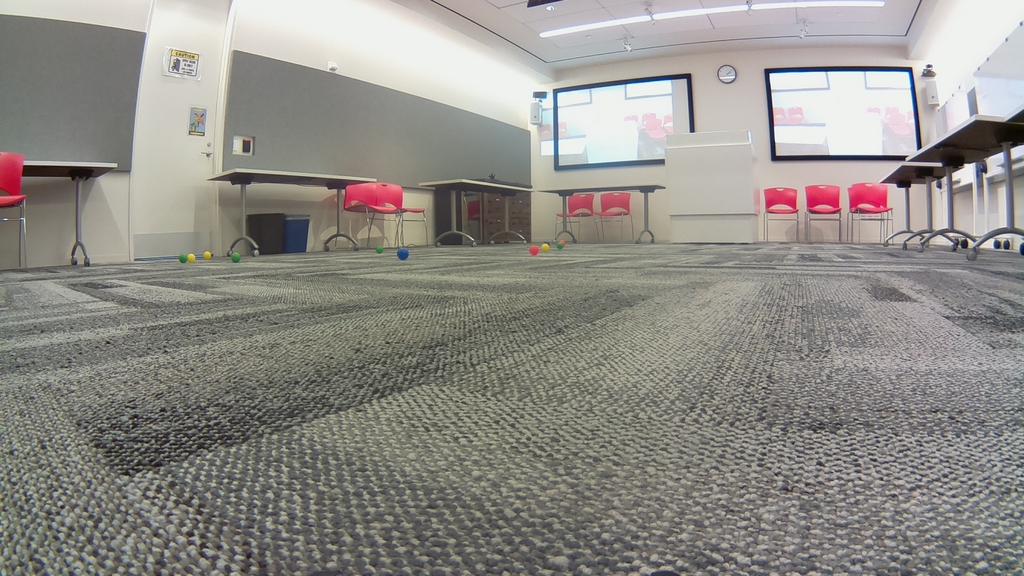ball: (398, 248, 409, 261)
